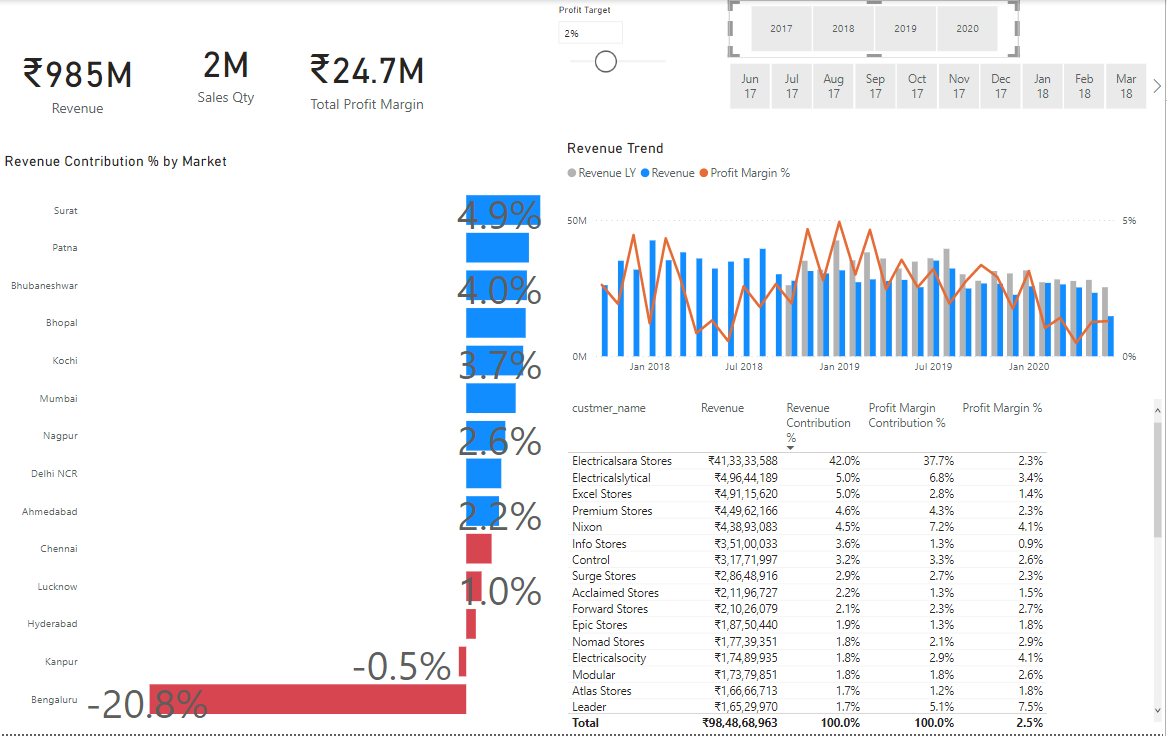

The dashboard page shown, as its layout file describes it:
{"tool":"powerbi","page":{"name":"Performance Insights","canvas":[1350,850],"ordinal":2},"visuals":[{"type":"card","fields":{"Values":["BaseMeasures (2).Revenue"]},"box":[0,0,179.6,184.8],"z":0},{"type":"card","fields":{"Values":["BaseMeasures (2).Sales Qty"]},"box":[179.6,0,164.1,161],"z":1000},{"type":"slicer","fields":{"Values":["sales date.year"]},"box":[844.4,0,335.5,66.1],"z":2000},{"type":"slicer","fields":{"Values":["sales date.cy_date"]},"box":[818.6,66.1,531.6,66.1],"z":3000},{"type":"tableEx","title":"Top 5 Customers","fields":{"Values":["sales customers.custmer_name","BaseMeasures (2).Revenue","BaseMeasures (2).Revenue Contribution %","BaseMeasures (2).Profit Margin Contribution %","BaseMeasures (2).Profit Margin %"]},"box":[651.4,457.3,698.8,392.3],"z":4000},{"type":"lineClusteredColumnComboChart","title":"Revenue Trend","fields":{"Category":["sales date.cy_date"],"Y":["BaseMeasures (2).Revenue LY","BaseMeasures (2).Revenue"],"Y2":["BaseMeasures (2).Profit Margin %"]},"box":[651.4,161,672,281.8],"z":5000},{"type":"card","fields":{"Values":["BaseMeasures (2).Total Profit Margin"]},"box":[343.7,0,161,176.5],"z":6000},{"type":"barChart","title":"Revenue Contribution % by Market","fields":{"Y":["BaseMeasures (2).Profit Margin %"],"Category":["sales markets.zone","sales markets.markets_name","sales customers.custmer_name","sales products.product_code"]},"box":[0,176.3,633.4,673],"z":7000},{"type":"slicer","fields":{"Values":["Profit Target.Profit Target"]},"box":[633.4,0,159.7,131.5],"z":8000}]}

Visuals, with their boxes in screenshot pixels (x1, y1, x2, y2), scaled from the page's 1350x850 canvas onto the 1167x736 screenshot:
card - BaseMeasures (2).Revenue: 0,0,155,160
card - BaseMeasures (2).Sales Qty: 155,0,297,139
slicer - sales date.year: 730,0,1020,57
slicer - sales date.cy_date: 708,57,1166,114
"Top 5 Customers" tableEx: 563,396,1166,735
"Revenue Trend" lineClusteredColumnComboChart: 563,139,1144,383
card - BaseMeasures (2).Total Profit Margin: 297,0,436,153
"Revenue Contribution % by Market" barChart: 0,153,548,735
slicer - Profit Target.Profit Target: 548,0,686,114
